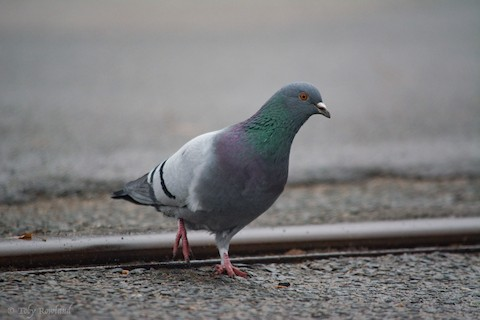pigeon: (104, 68, 341, 284)
